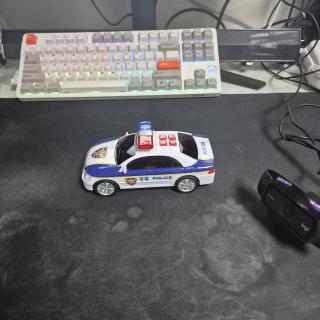Police_car: (82, 121, 214, 196)
